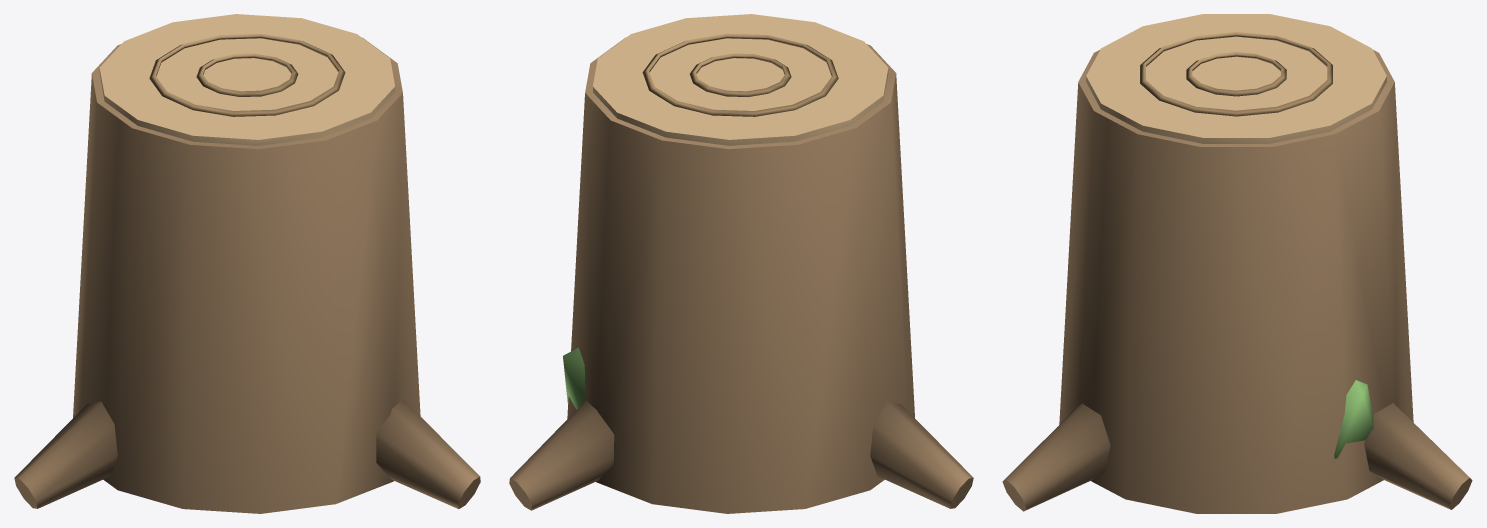
File: Forest_Stump1.fbx
The picture shows the model from 3 angles, left to right: view 1: azimuth 30°, elevation 25°; view 2: azimuth 150°, elevation 25°; view 3: azimuth 270°, elevation 25°; orthographic projection.
Parts seen in each view (by area): view 1: Forest_Stump1; view 2: Forest_Stump1; view 3: Forest_Stump1.
Boxes of the visible parts, x1=… form: Forest_Stump1: x1=14, y1=14, x2=480, y2=513; Forest_Stump1: x1=509, y1=14, x2=973, y2=513; Forest_Stump1: x1=1002, y1=14, x2=1472, y2=513.
Size of the model in its own units: 1.33 by 1.29 by 1.43.
